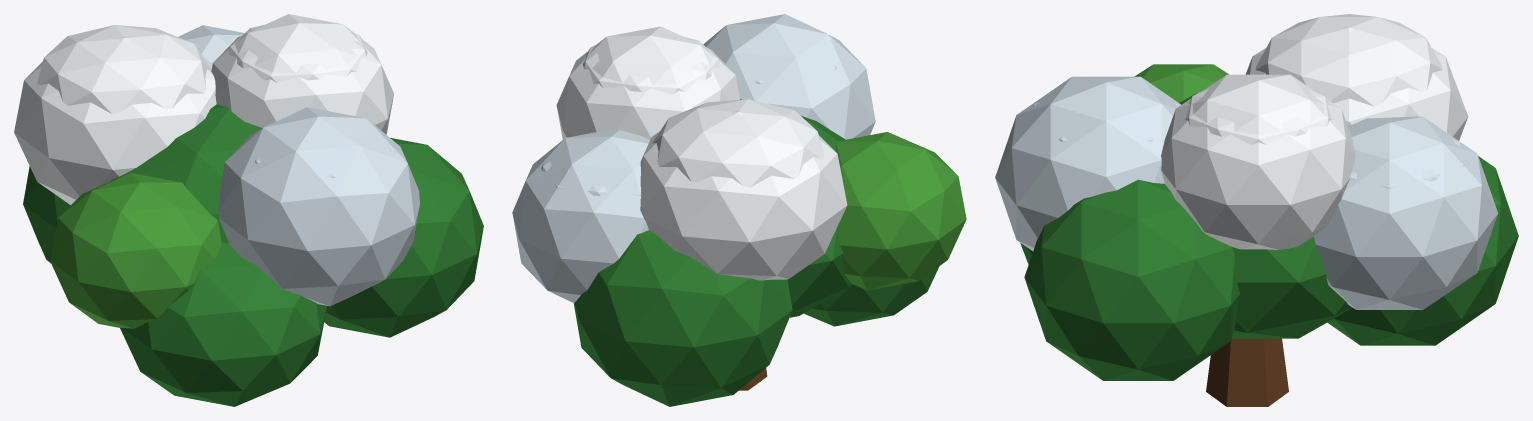
Rendered from bush-snow.glb.
The picture shows the model from 3 angles, left to right: view 1: azimuth 30°, elevation 25°; view 2: azimuth 150°, elevation 25°; view 3: azimuth 270°, elevation 25°; orthographic projection. The views are drawn at different scales.
Visible parts, largest first — view 1: BushSnow_Crown; view 2: BushSnow_Crown; view 3: BushSnow_Crown, BushSnow_Trunk.
Boxes of the visible parts, x1,y1,x2,y2 form: BushSnow_Crown: [14, 14, 483, 406]; BushSnow_Crown: [512, 14, 966, 406]; BushSnow_Crown: [995, 14, 1518, 380]; BushSnow_Trunk: [1206, 338, 1288, 406].
Size of the model in its own units: 1.01 by 0.8343 by 1.13.
